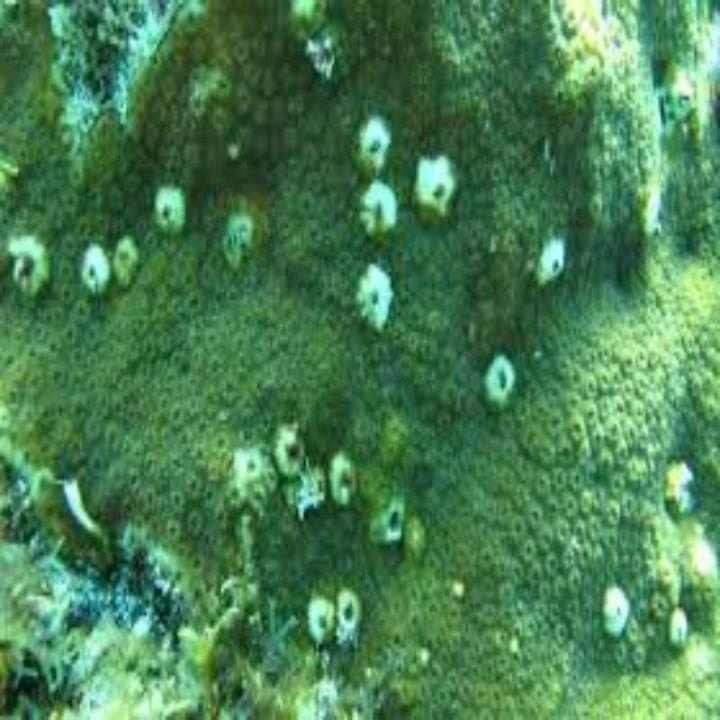White Pox Disease: (6, 14, 703, 663)
